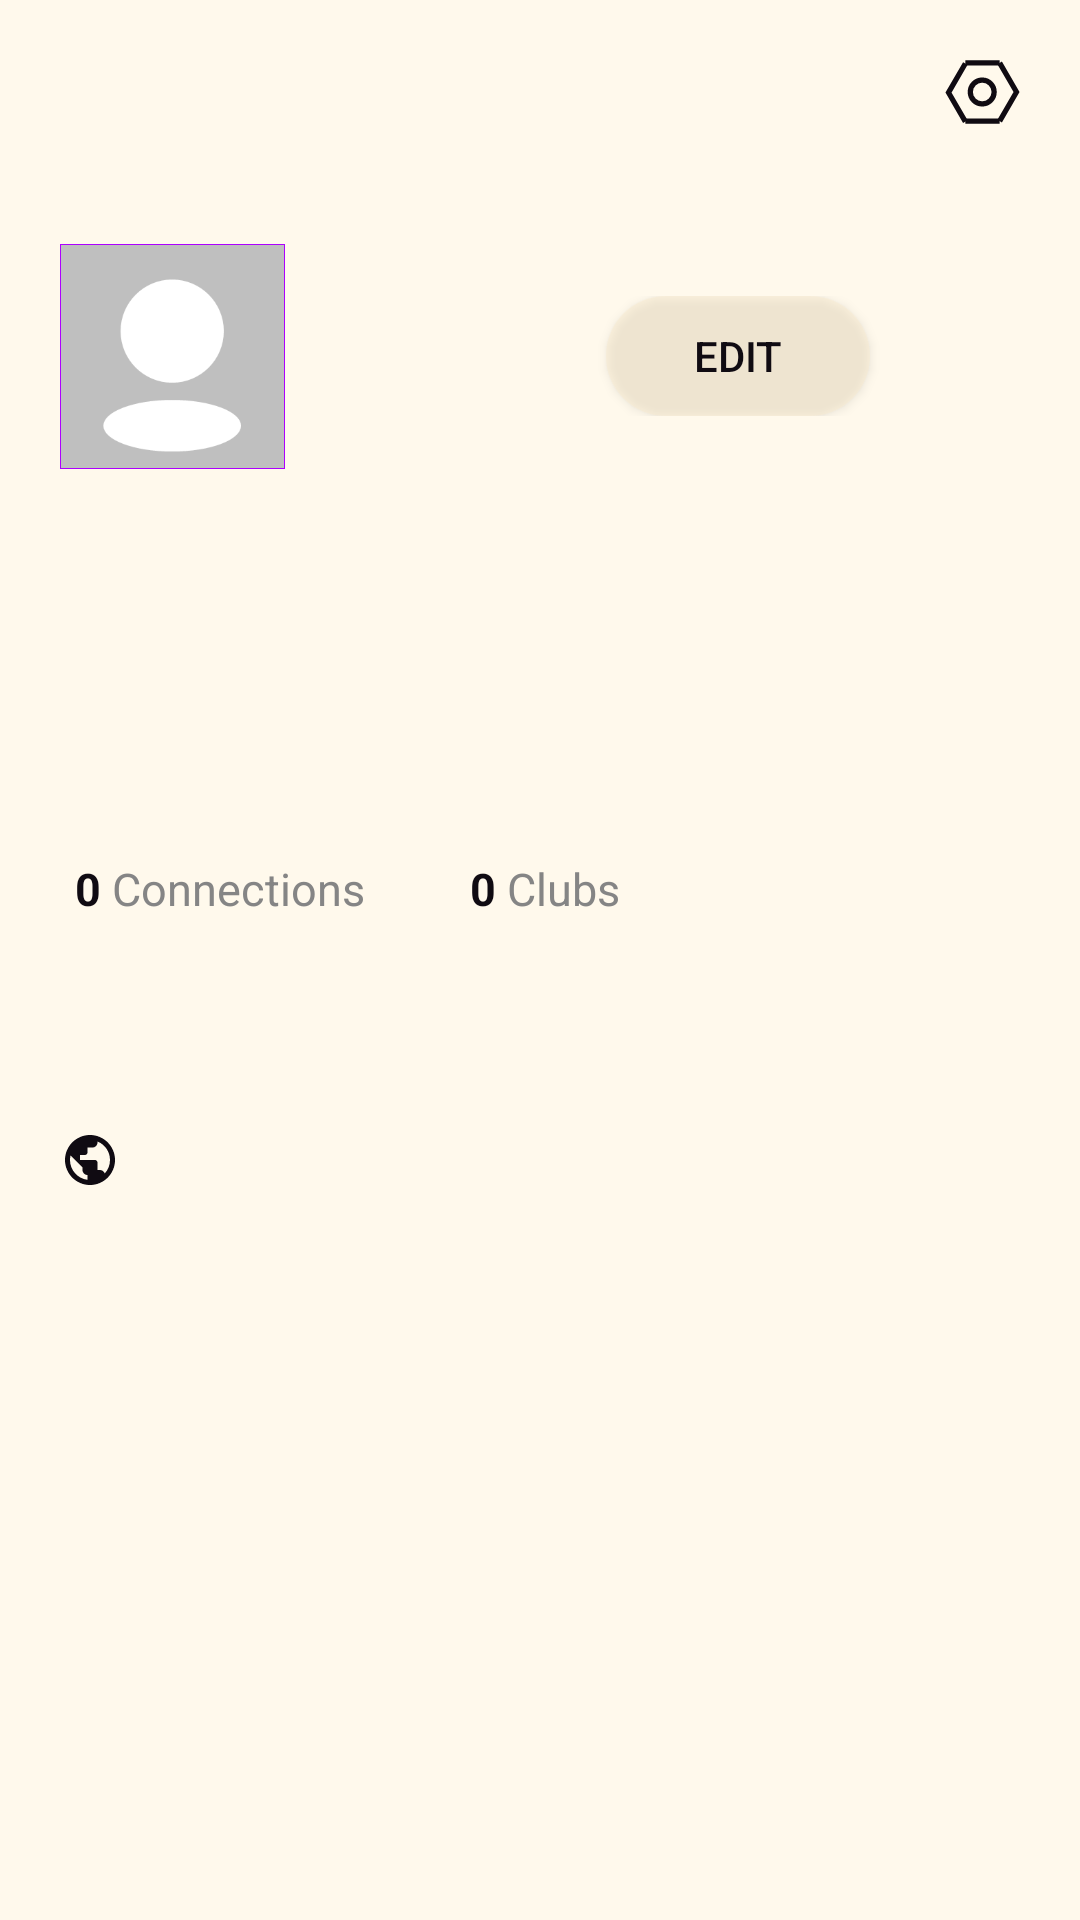

Where to tap for icons on this 1080w x 1920h app screen, as [x,y]:
public: [90,1160]
setting: [982,92]
user: [172,356]
